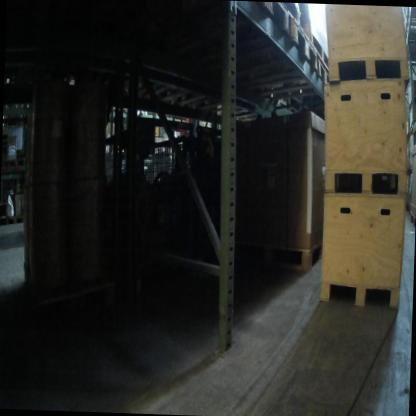pallet: (195, 51, 345, 108), (174, 33, 320, 81), (243, 238, 324, 278), (288, 19, 319, 75), (255, 2, 291, 40), (316, 52, 335, 91), (2, 151, 29, 176), (403, 8, 416, 35), (5, 212, 26, 228), (409, 208, 416, 229), (408, 124, 415, 138)
stillage: (148, 121, 242, 243), (89, 118, 166, 247)
